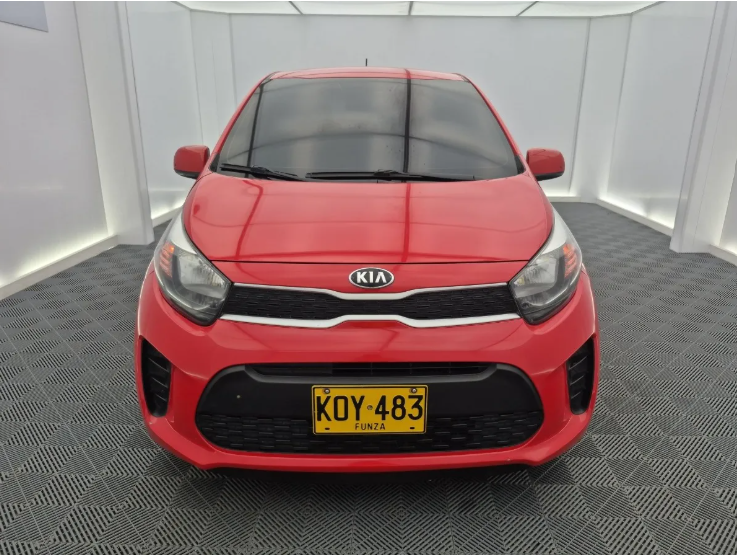placa: (314, 387, 424, 433)
